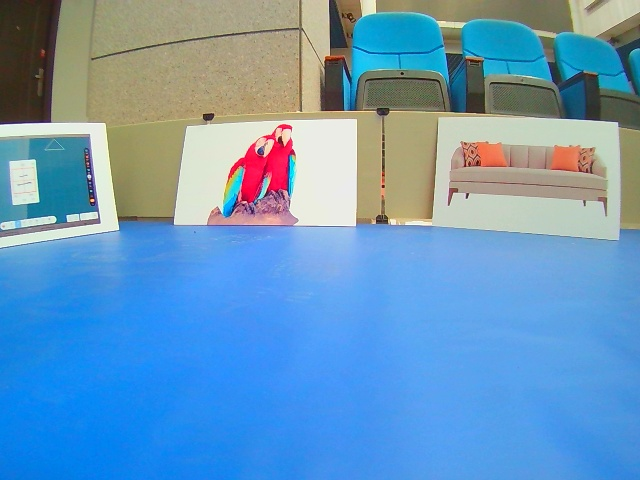pet: (172, 117, 357, 226)
sofa: (431, 115, 622, 243)
